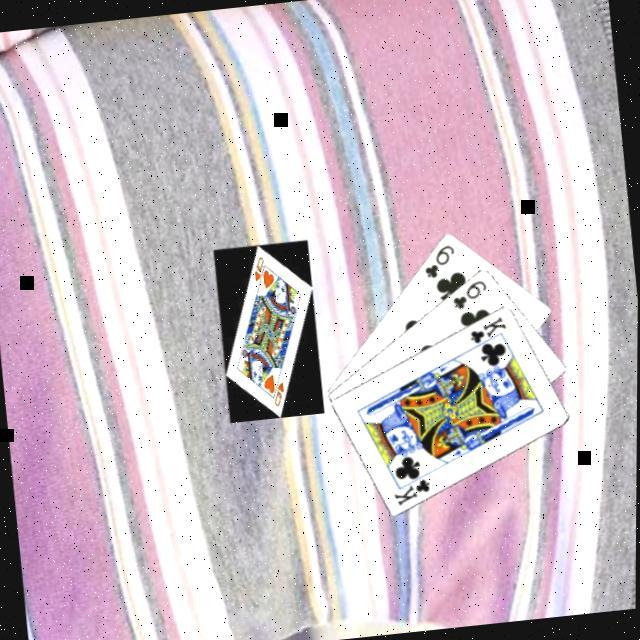6C: (416, 242, 458, 284), (447, 277, 490, 314)
KC: (464, 314, 511, 354), (387, 470, 434, 510)
